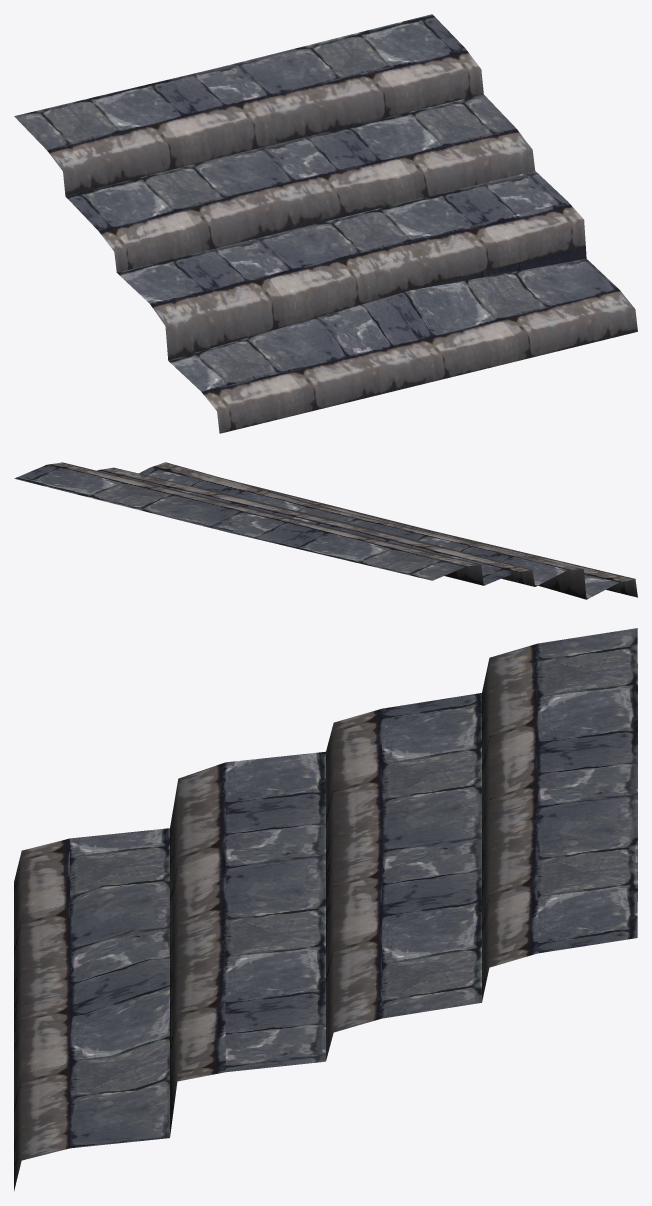
File: Stairs2.FBX
3 renders of one model, top to bottom at view 1: azimuth 30°, elevation 25°; view 2: azimuth 150°, elevation 25°; view 3: azimuth 270°, elevation 25°, orthographic. The views are drawn at different scales.
Parts seen in each view (by area): view 1: Stairs; view 2: Stairs; view 3: Stairs.
Part boxes in pixels (x1=…): Stairs: x1=14, y1=14, x2=637, y2=433; Stairs: x1=14, y1=462, x2=637, y2=599; Stairs: x1=14, y1=628, x2=637, y2=1190.
Bounding box in the file's own units: 253 × 96.75 × 215.
